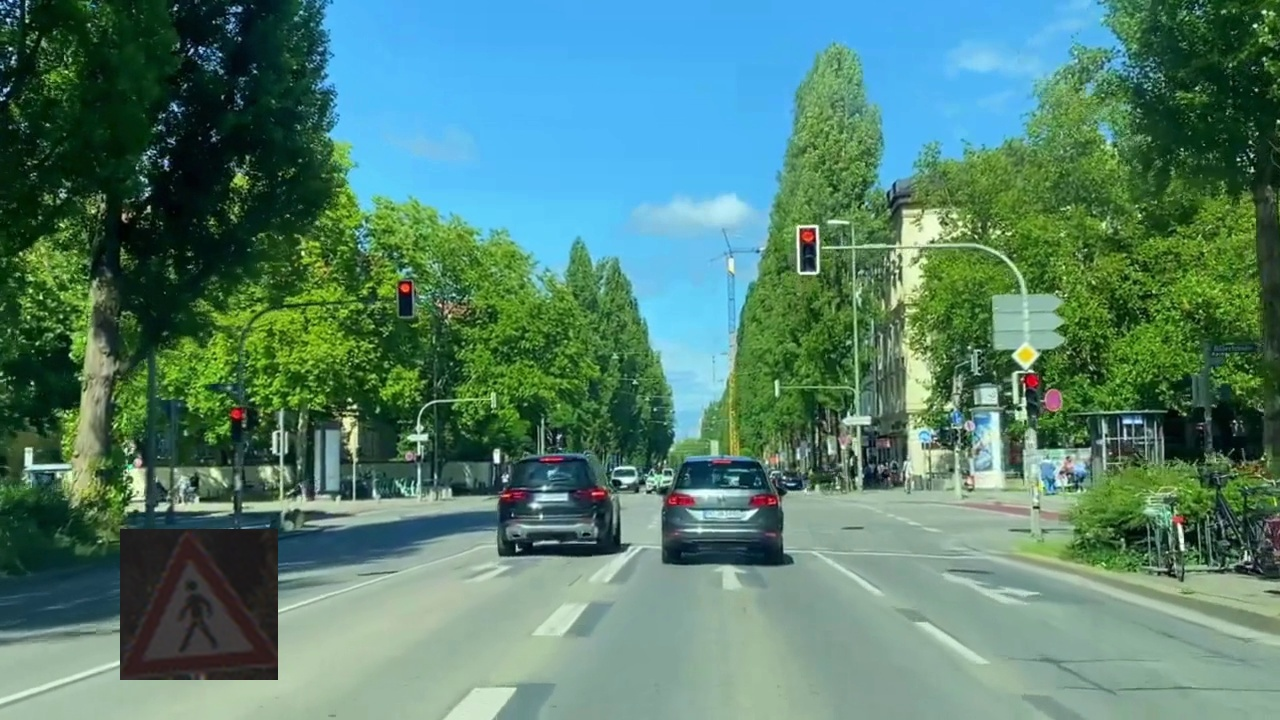Pedestrians: (120, 529, 278, 680)
